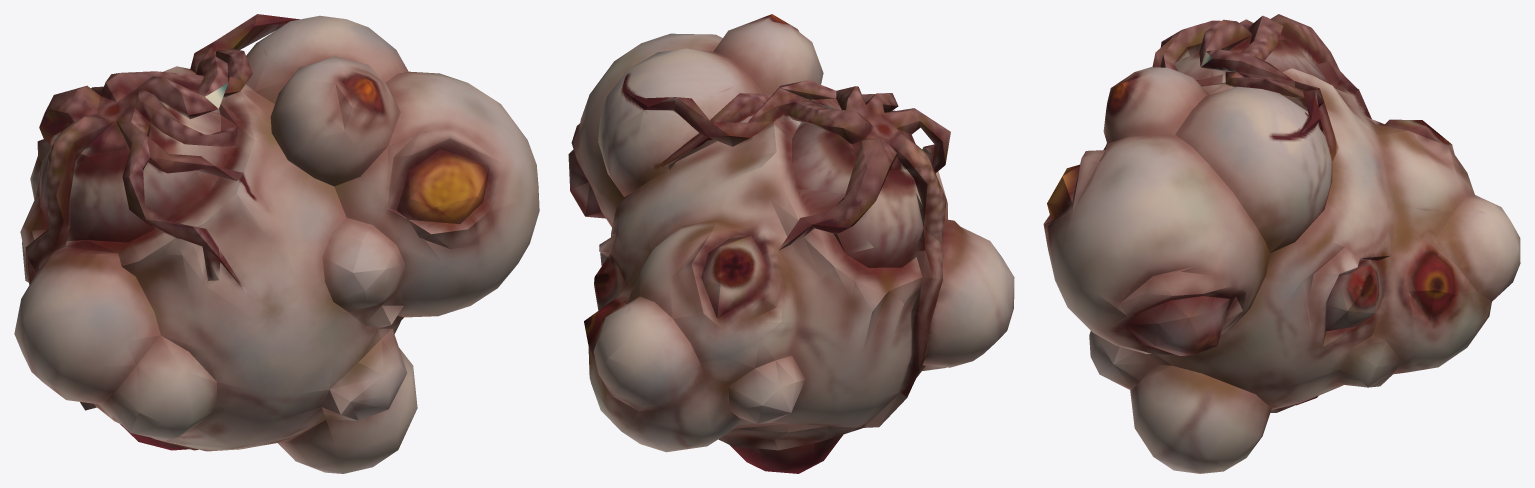
File: banshira_growth_06.fbx
The picture shows the model from 3 angles, left to right: view 1: azimuth 30°, elevation 25°; view 2: azimuth 150°, elevation 25°; view 3: azimuth 270°, elevation 25°; orthographic projection. The views are drawn at different scales.
Parts seen in each view (by area): view 1: Banshira_Growth_06; view 2: Banshira_Growth_06; view 3: Banshira_Growth_06.
Part boxes in pixels (left/top/right/bottom): Banshira_Growth_06: left=14, top=14, right=539, bottom=473; Banshira_Growth_06: left=568, top=14, right=1014, bottom=473; Banshira_Growth_06: left=1043, top=14, right=1520, bottom=473.
Size of the model in its own units: 500 by 421 by 475.
